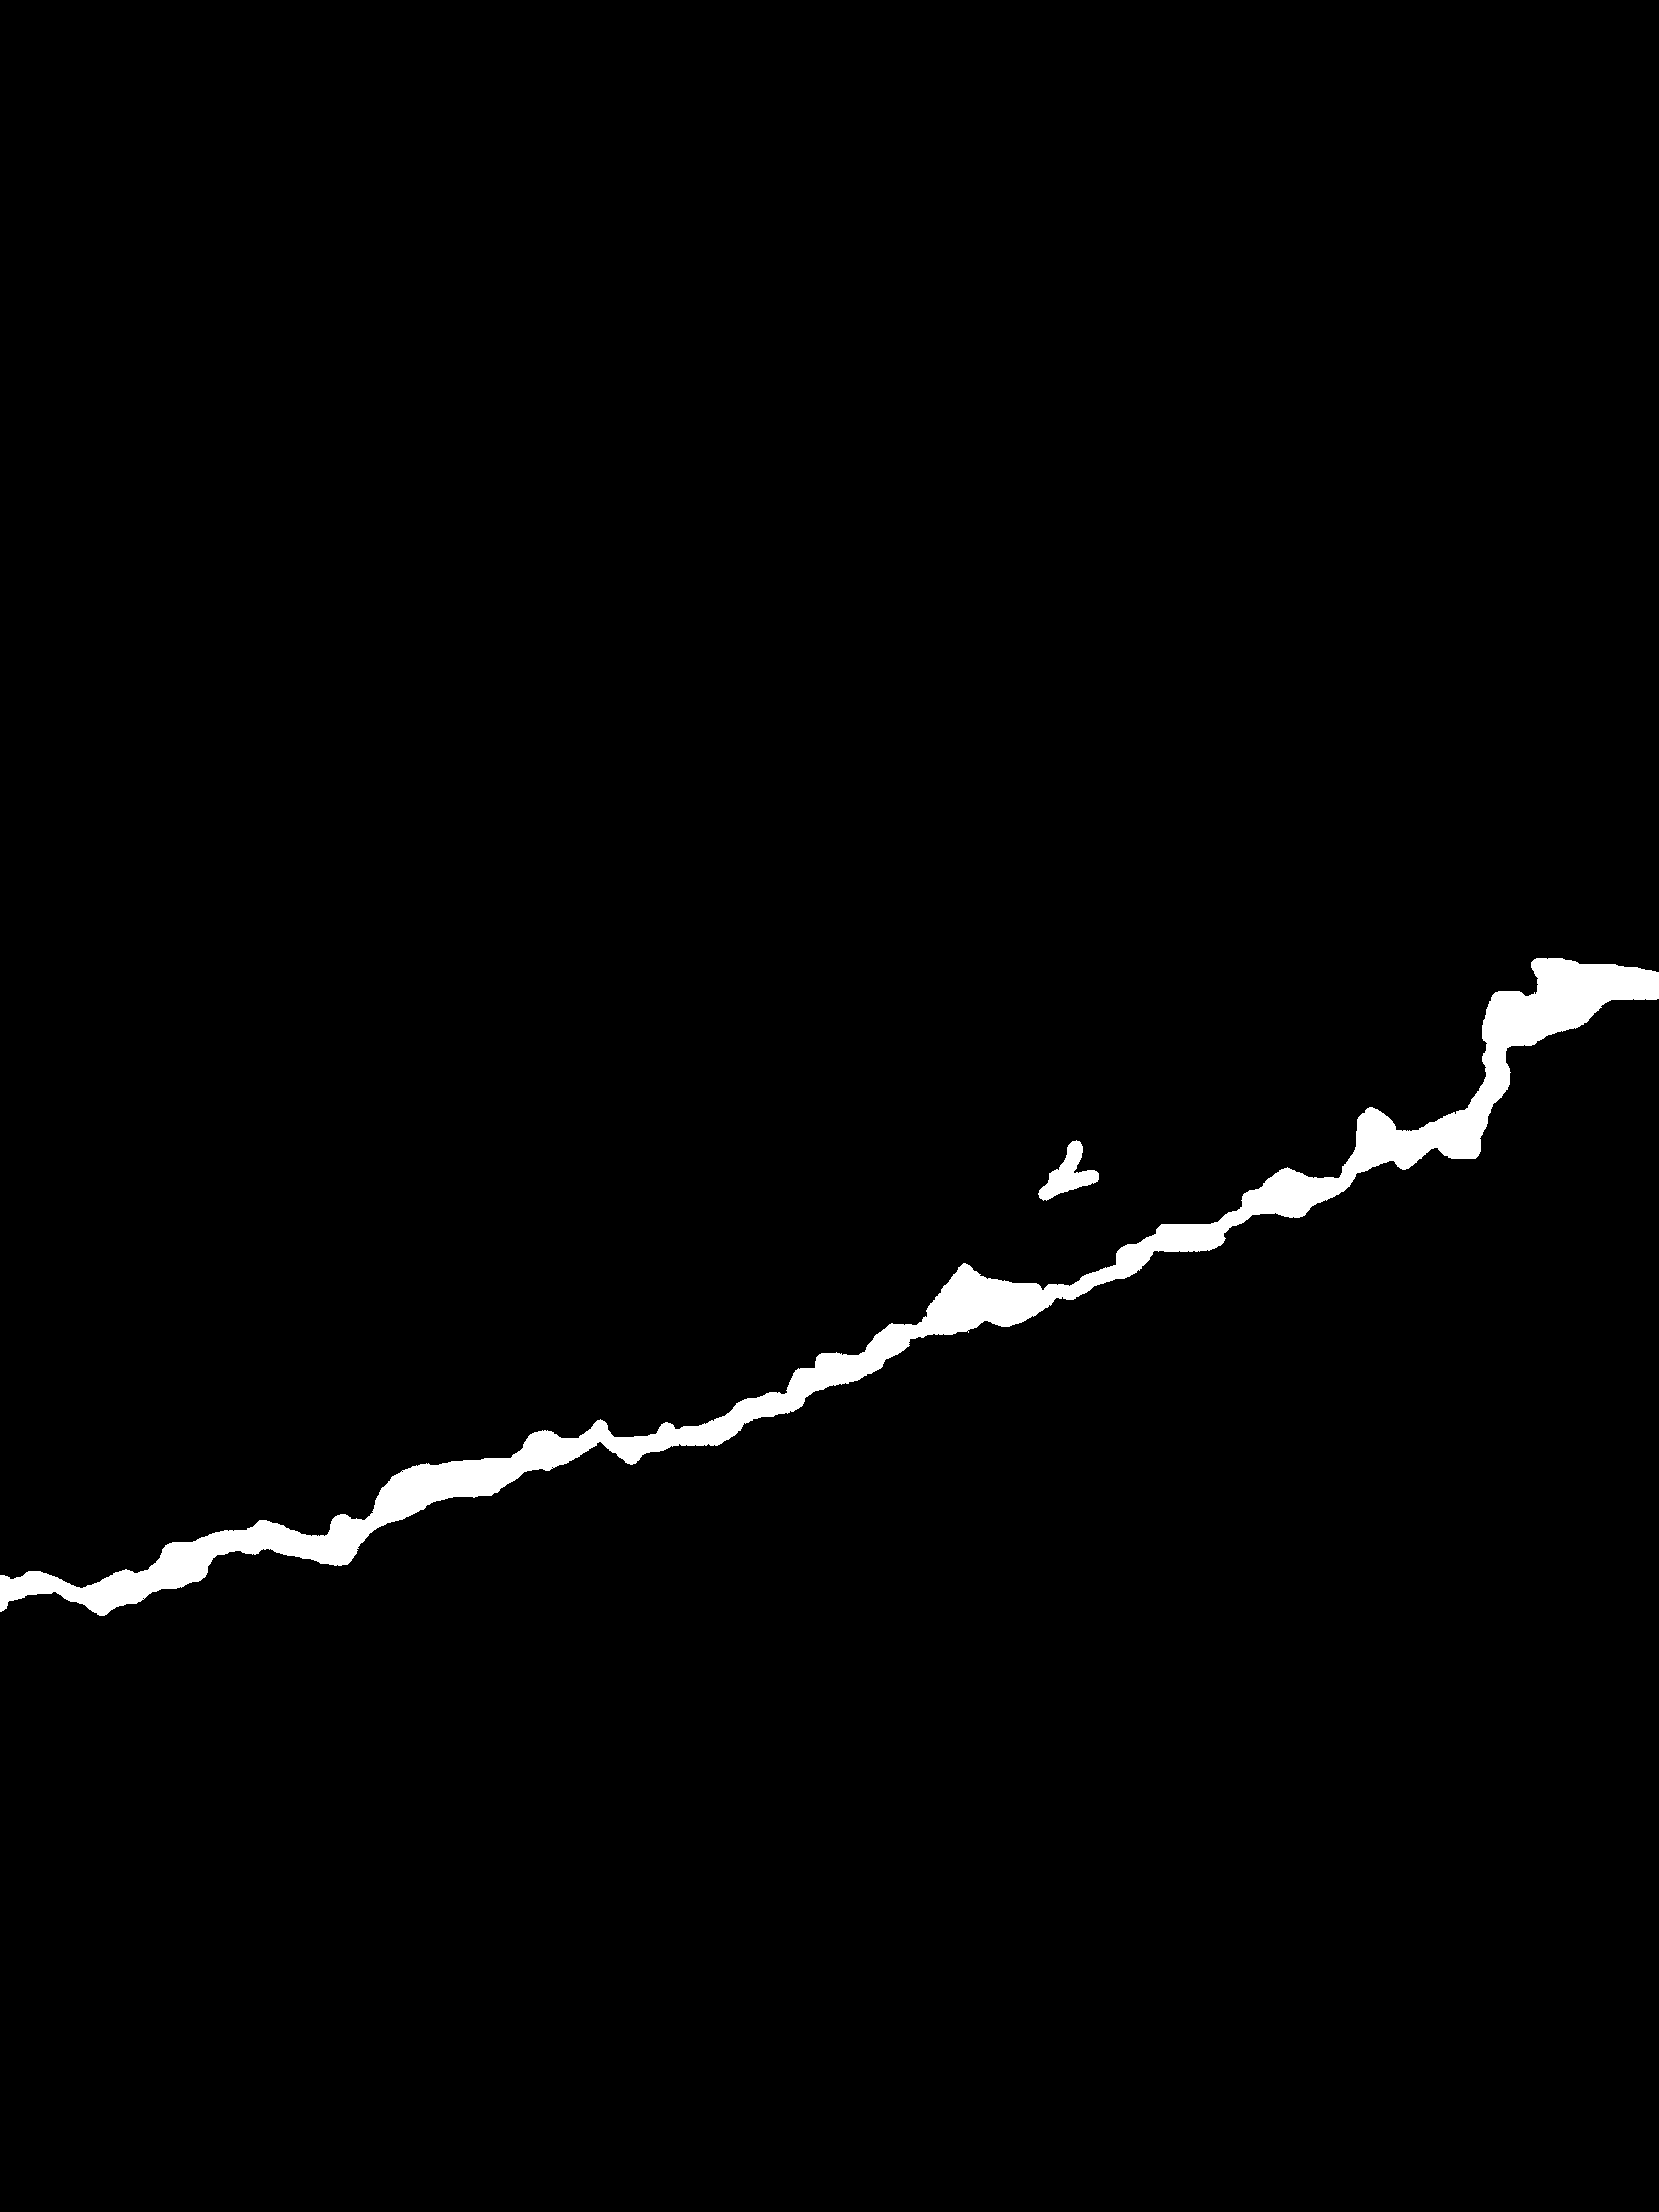Crack: (0, 939, 1659, 1644)
